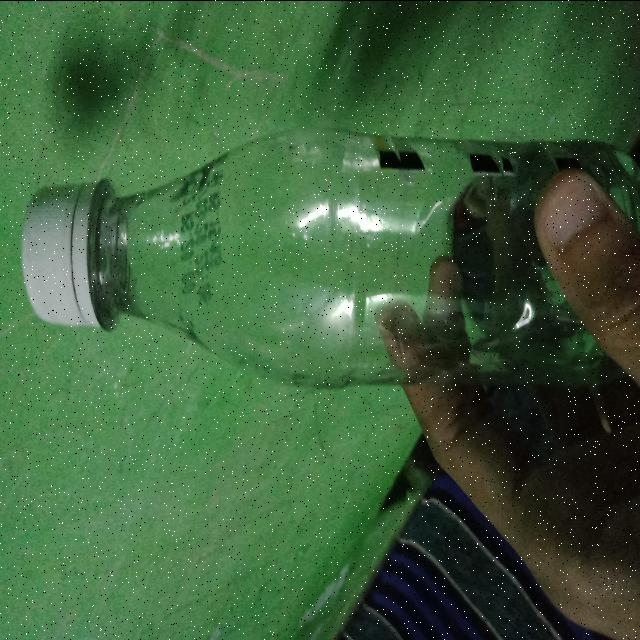plastic: (19, 124, 640, 388)
